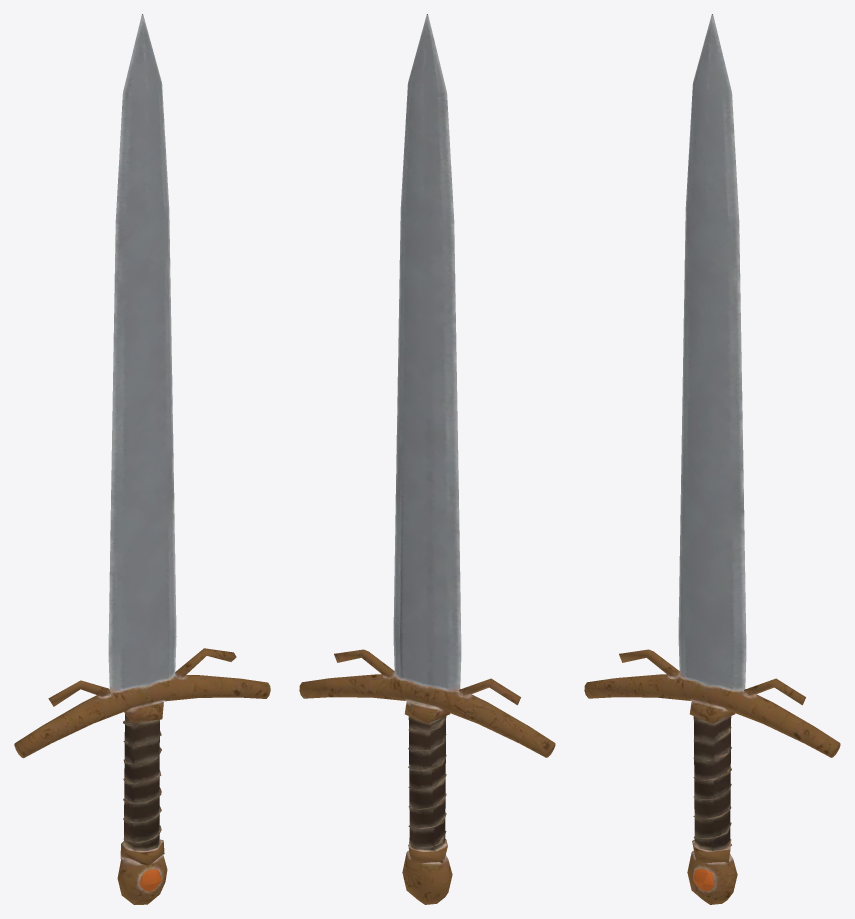
Rendered from eq_sword_3_lod1.glb.
The picture shows the model from 3 angles, left to right: view 1: azimuth 30°, elevation 25°; view 2: azimuth 150°, elevation 25°; view 3: azimuth 330°, elevation 25°; orthographic projection.
Visible parts, largest first — view 1: eq_sword_3_lod1; view 2: eq_sword_3_lod1; view 3: eq_sword_3_lod1.
Boxes of the visible parts, x1,y1,x2,y2 form: eq_sword_3_lod1: (14,14,270,904); eq_sword_3_lod1: (299,14,555,904); eq_sword_3_lod1: (584,14,840,904).
Size of the model in its own units: 0.3997 by 1.35 by 0.0622.
1 material, 1 textured.
